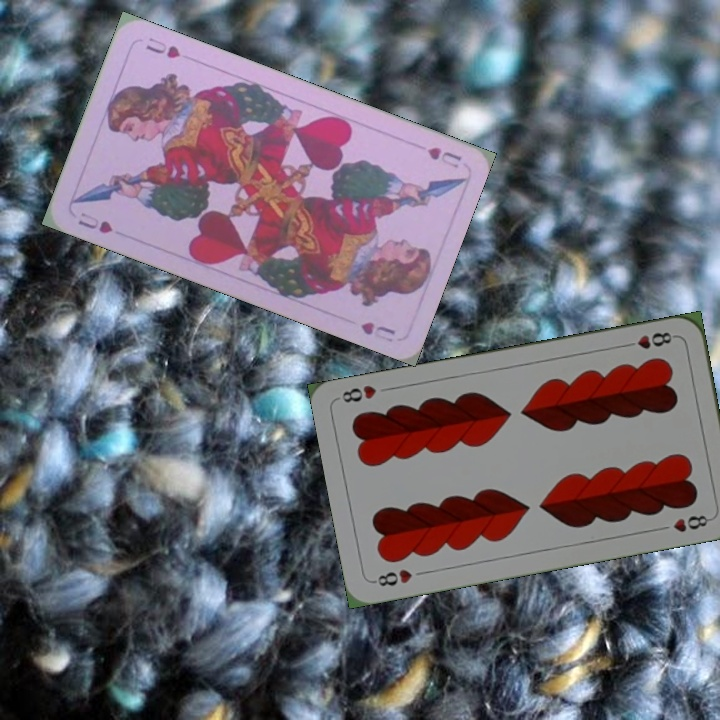H8: (620, 328, 679, 352), (369, 565, 415, 589)
HU: (74, 208, 116, 237), (423, 142, 464, 171)
